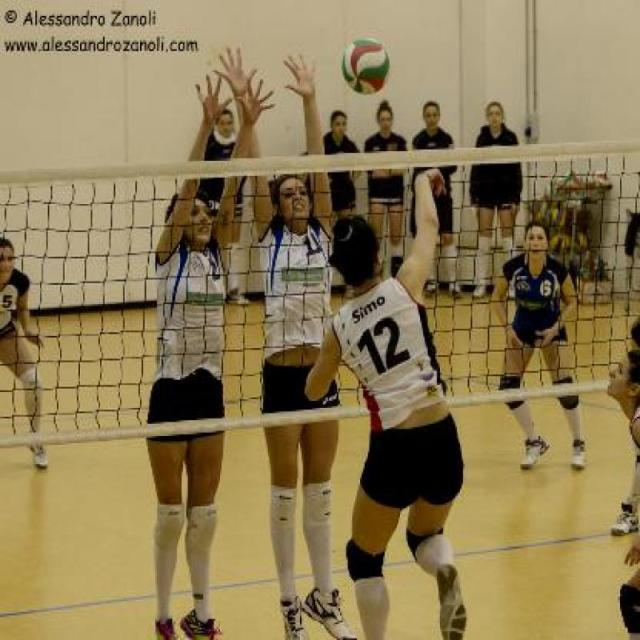volleyball: (340, 35, 390, 97)
